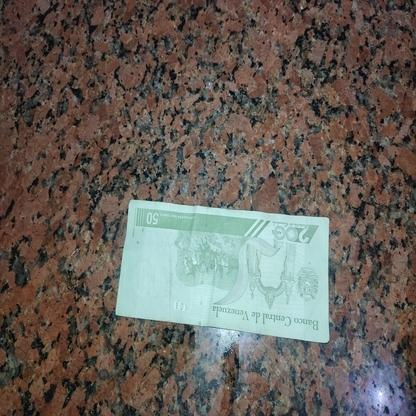dollar_back: (114, 198, 330, 343)
